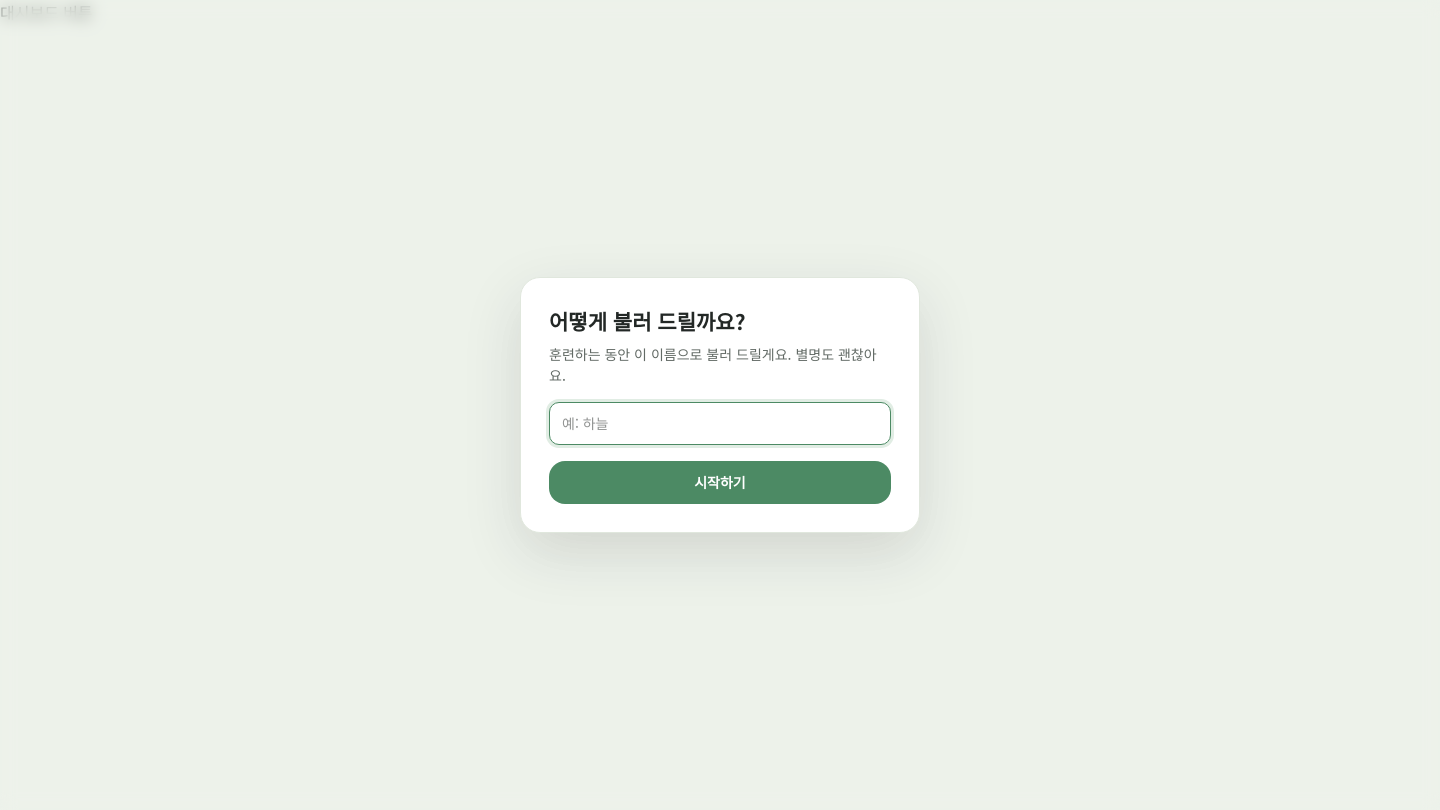
NicknameGate — 무료로 시작한 게스트에게 불러 줄 이름 묻기 › 빈 이름은 보내지 않고, 서버 오류는 창 안에 보여 준다
Click the button "시작하기".
click(720, 482)  # box 549,461 -> 891,504
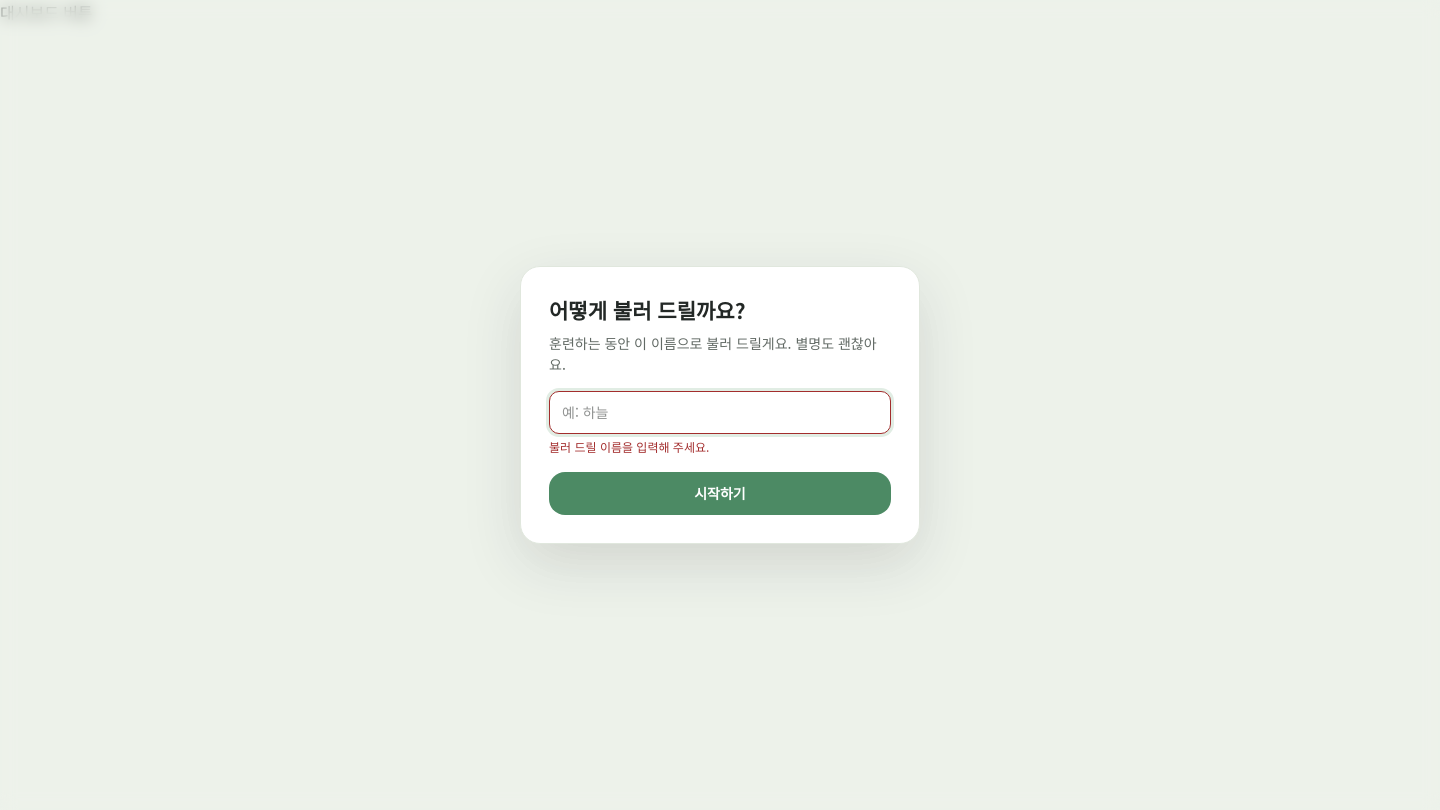
Expected: the text "불러 드릴 이름을 입력해 주세요." is shown, 549,438 -> 709,455
Type "하늘" into the field named "불러 드릴 이름".
click(720, 412); type("하늘")  # box 549,391 -> 891,434
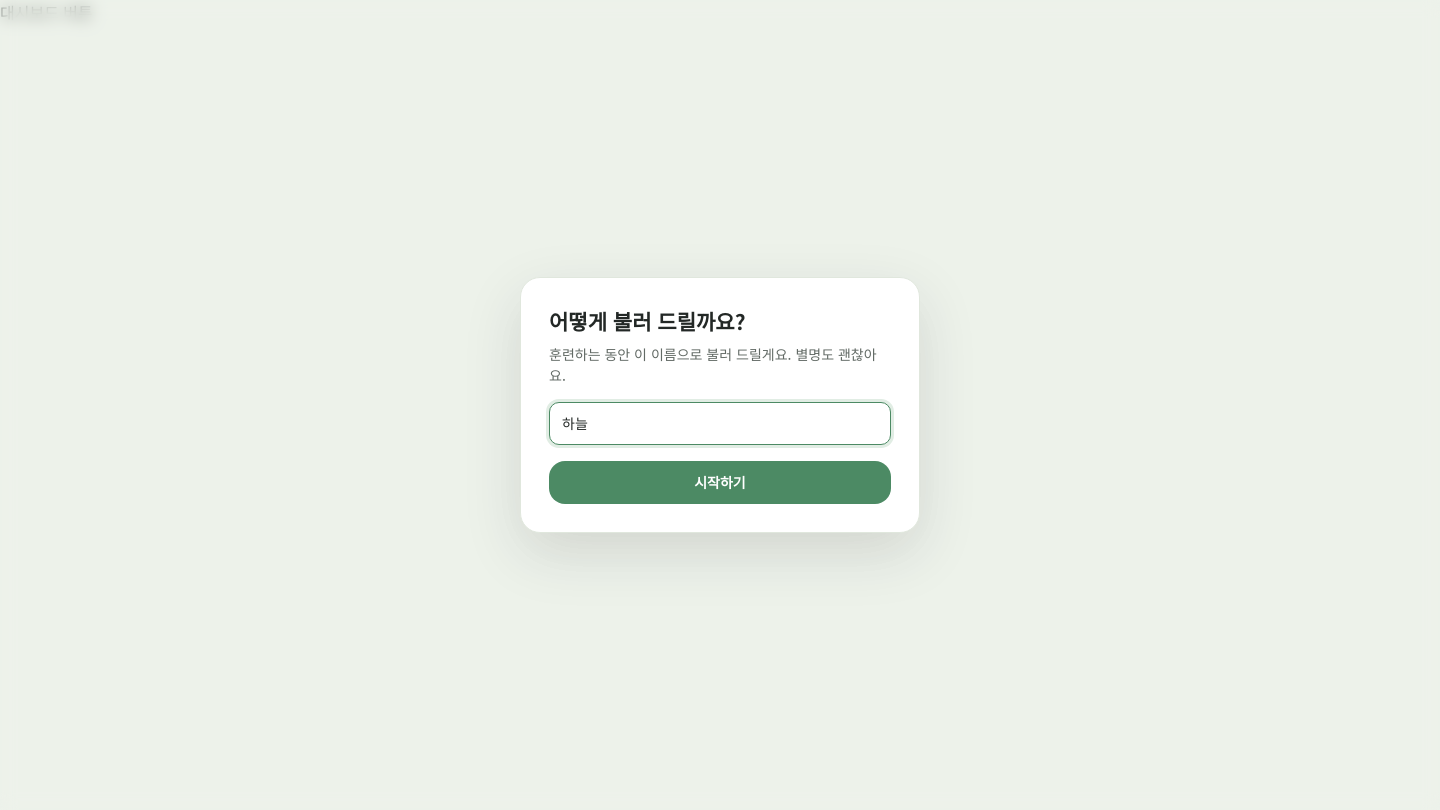
Click the button "시작하기".
click(720, 482)  # box 549,461 -> 891,504
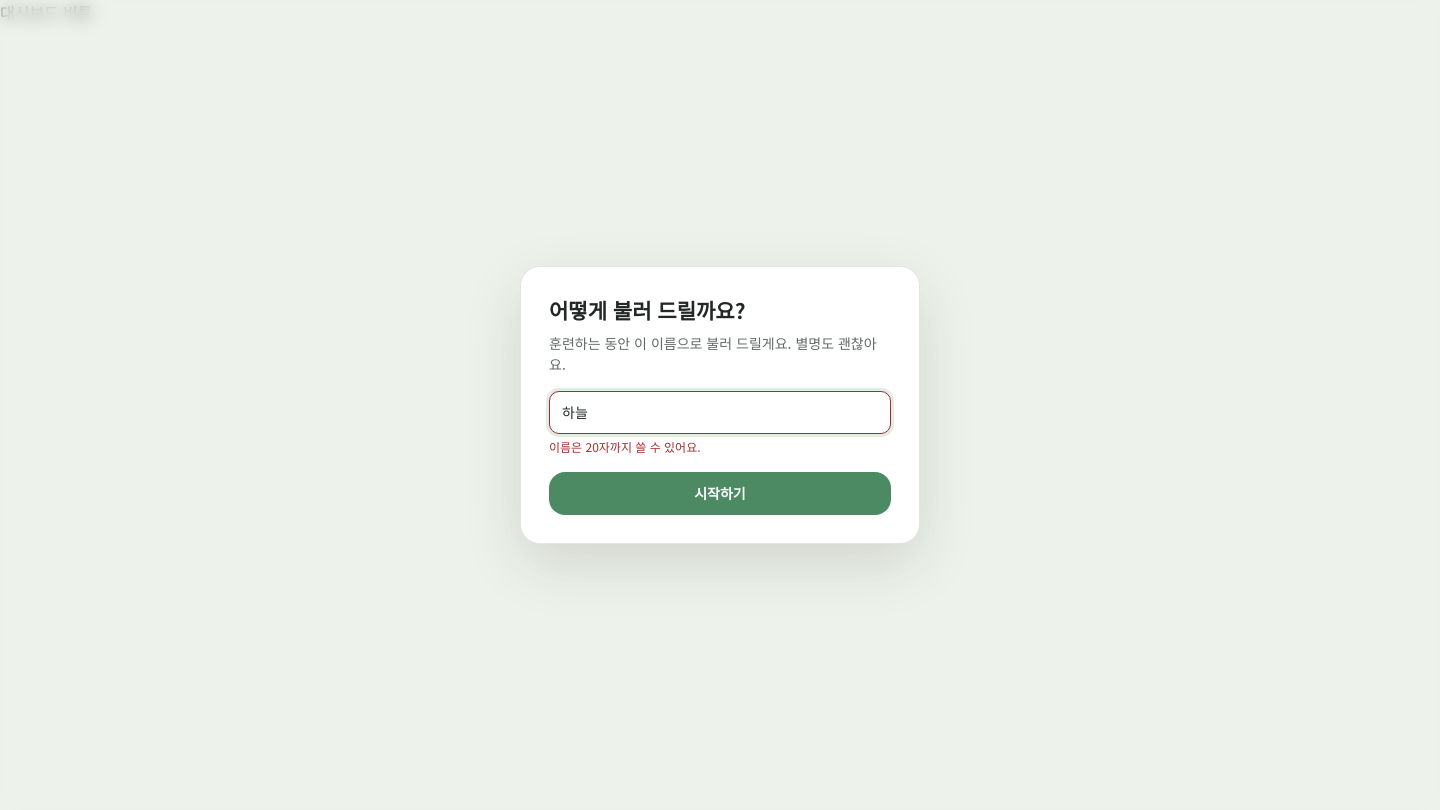
Expected: the dialog is shown, 520,266 -> 920,544
Expected: the text "이름은 20자까지 쓸 수 있어요." is shown, 549,438 -> 701,455
